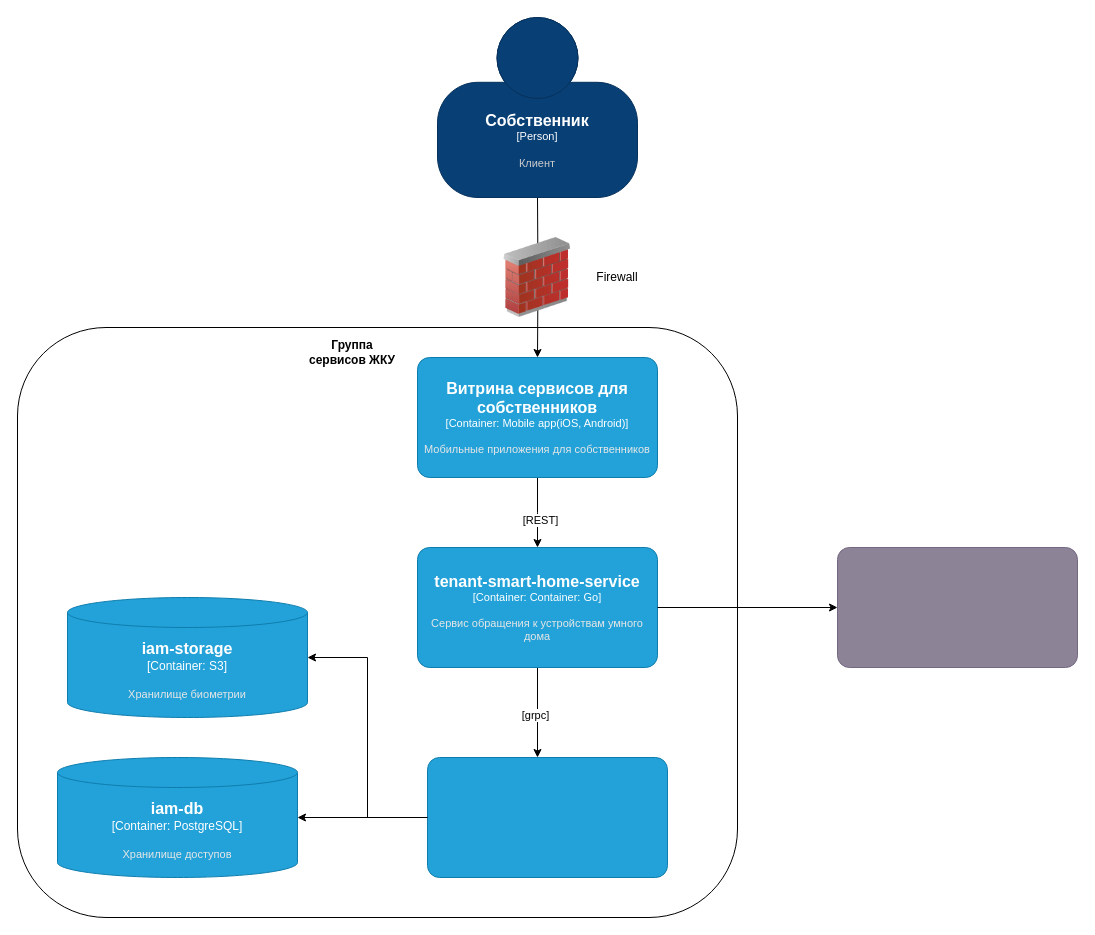
Image size: 1095x935. Some labels were removed from this diagram. Each missing label, with the centre of its shape:
IAM [Container: Container: Go] Сервис управления доступами: the point at 547,817
Умный дом [Software System] Управления устройствами умного дома: the point at 957,607
